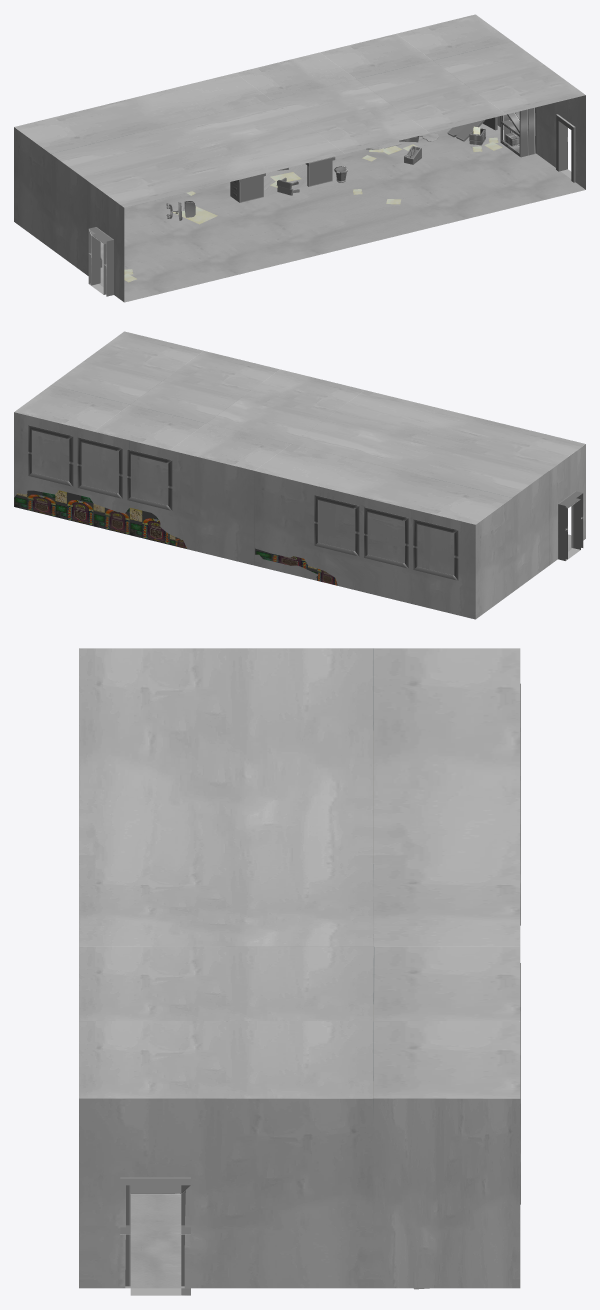
The model's file is MSH_QuestStandard_L2_R3_optimized.fbx.
The picture shows the model from 3 angles, top to bottom: view 1: azimuth 30°, elevation 25°; view 2: azimuth 150°, elevation 25°; view 3: azimuth 270°, elevation 25°; orthographic projection. The views are drawn at different scales.
Visible parts, largest first — view 1: MSH_QuestStandard_L2_R3_ceiling_01, lightmap4, lightmap2, lightmap1, lightmap0, MSH_QuestStandard_L2_R3_decals_01; view 2: MSH_QuestStandard_L2_R3_ceiling_01, lightmap2, lightmap0, lightmap1; view 3: MSH_QuestStandard_L2_R3_ceiling_01, lightmap2, lightmap4, lightmap1.
Boxes of the visible parts, bbox=[...] form: MSH_QuestStandard_L2_R3_ceiling_01: bbox=[14, 14, 585, 207]; lightmap4: bbox=[99, 123, 585, 302]; lightmap2: bbox=[14, 95, 585, 301]; lightmap1: bbox=[88, 114, 575, 296]; lightmap0: bbox=[166, 107, 536, 220]; MSH_QuestStandard_L2_R3_decals_01: bbox=[124, 126, 502, 282]; MSH_QuestStandard_L2_R3_ceiling_01: bbox=[14, 331, 585, 524]; lightmap2: bbox=[14, 412, 585, 619]; lightmap0: bbox=[28, 425, 458, 580]; lightmap1: bbox=[558, 491, 583, 560]; MSH_QuestStandard_L2_R3_ceiling_01: bbox=[79, 648, 520, 1098]; lightmap2: bbox=[79, 1098, 520, 1288]; lightmap4: bbox=[125, 1194, 184, 1288]; lightmap1: bbox=[120, 1177, 190, 1295].
Bounding box in the file's own units: 30.91 × 6.04 × 12.41.
